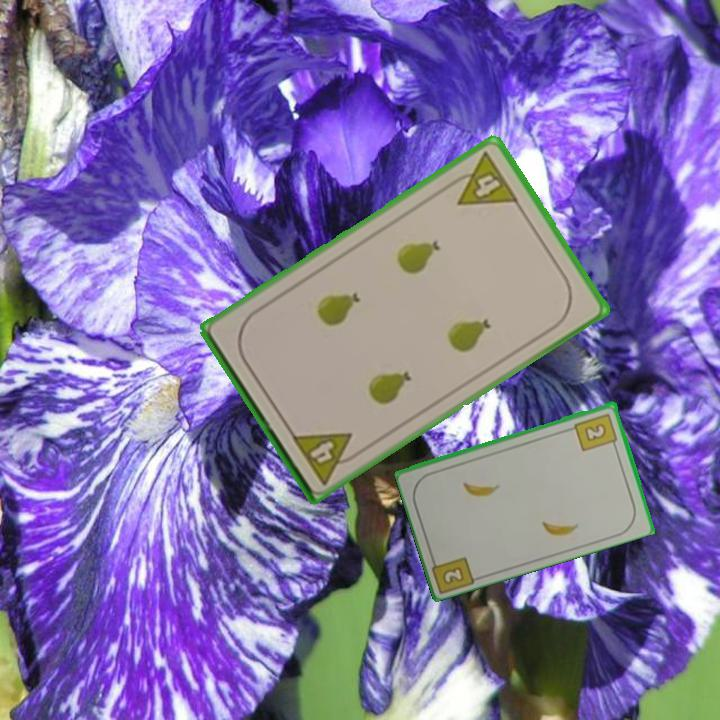2b: (427, 551, 479, 594), (571, 409, 620, 454)
4p: (443, 148, 522, 209), (288, 428, 364, 487)
